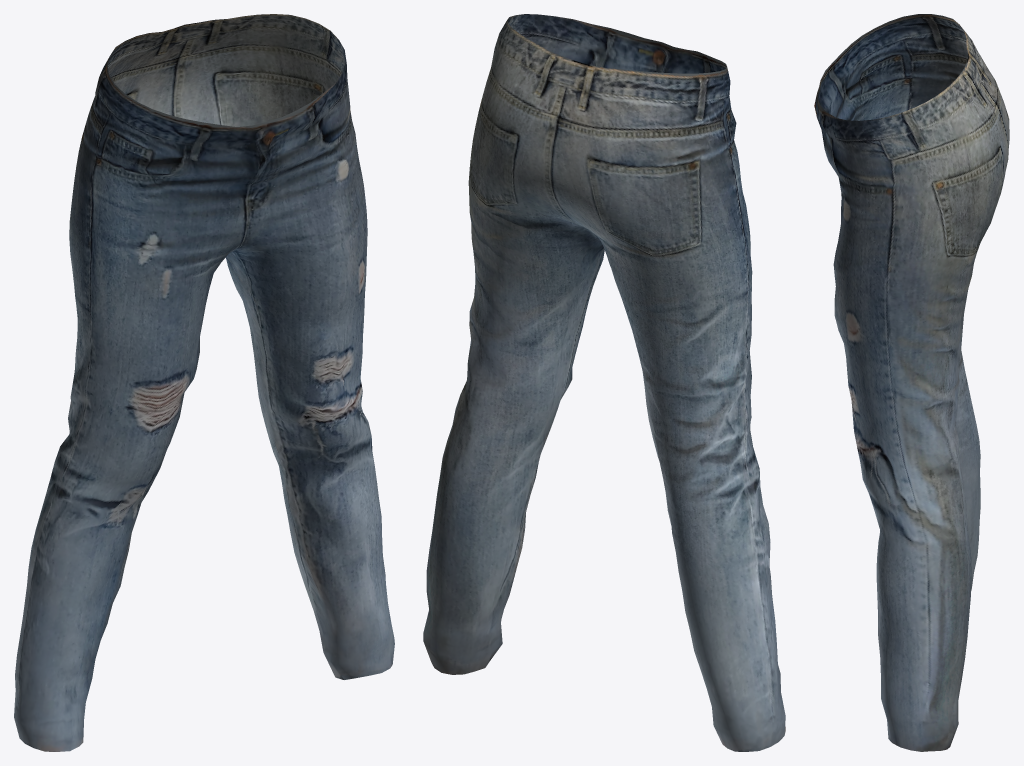
3 views of the same model, side by side, from view 1: azimuth 30°, elevation 25°; view 2: azimuth 150°, elevation 25°; view 3: azimuth 270°, elevation 25° (orthographic). The views are drawn at different scales.
Visible parts, largest first — view 1: Jeans_03; view 2: Jeans_03; view 3: Jeans_03.
Part boxes in pixels (box(x1,y1,x2,y2)): Jeans_03: box(14, 14, 394, 751); Jeans_03: box(423, 14, 785, 751); Jeans_03: box(814, 14, 1009, 751).
Bounding box in the file's own units: 0.4678 × 0.819 × 0.2323.
Materials: 1 (1 with a texture image).
